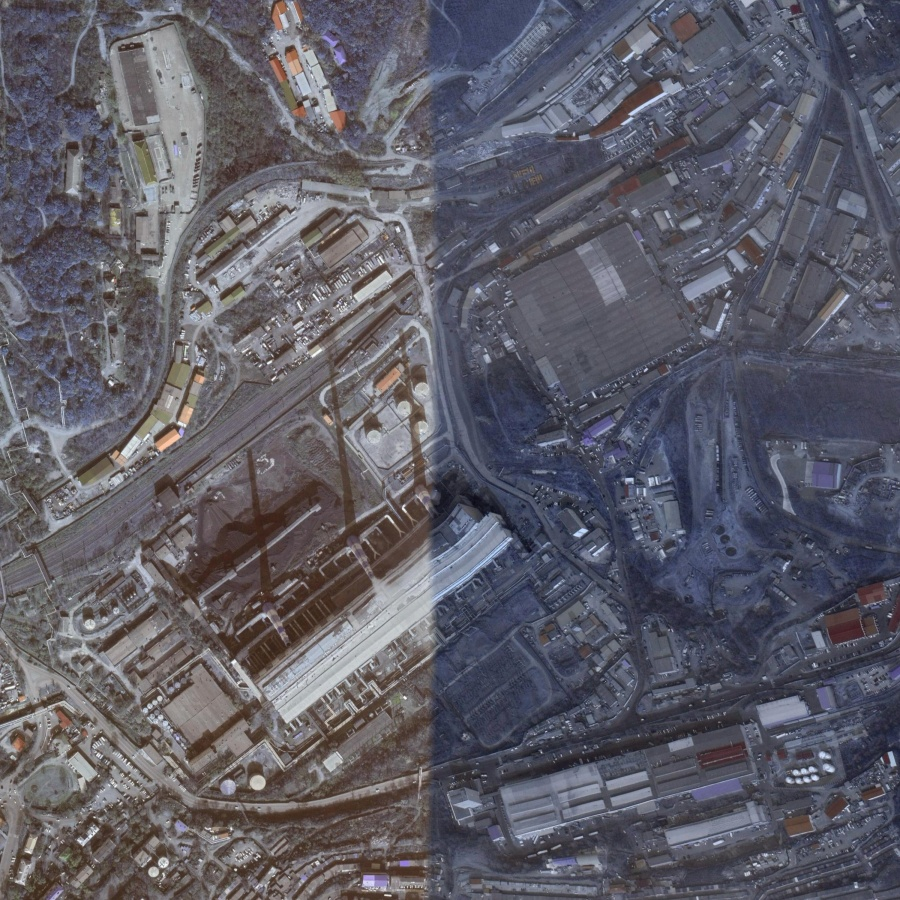PowerPlant: (181, 358, 508, 726)
